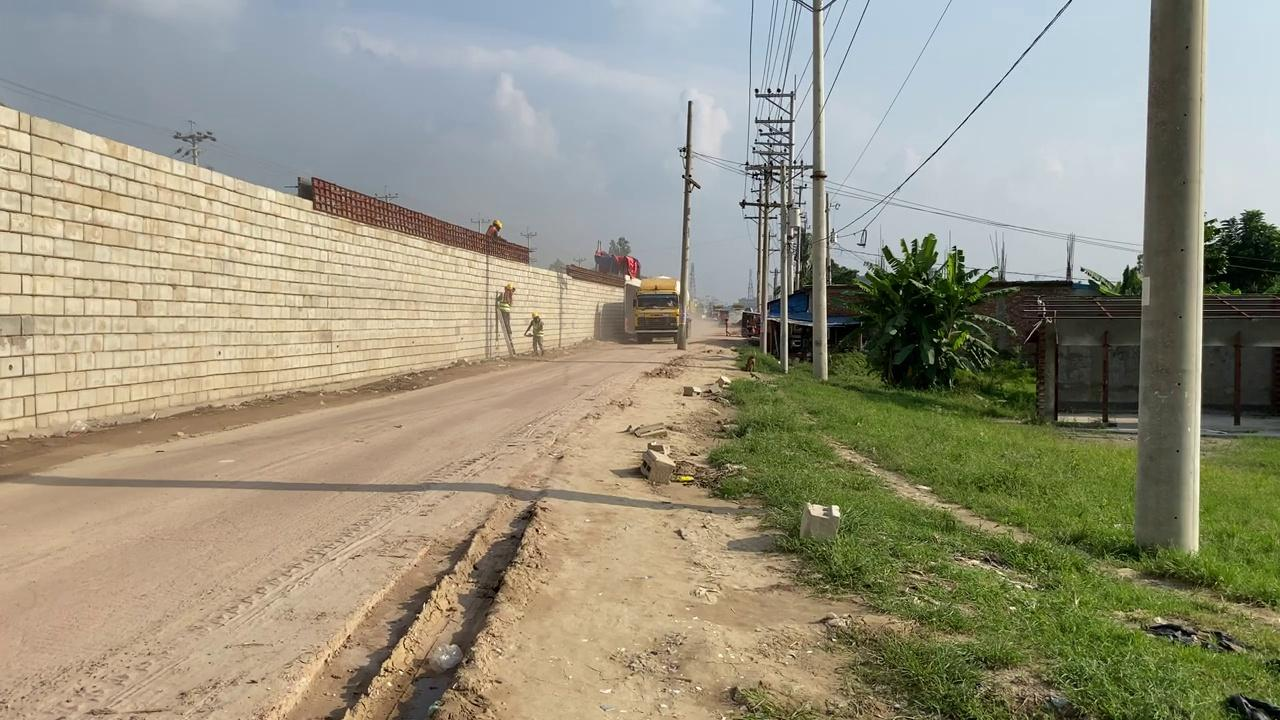Dog: (744, 355, 756, 373)
Muddy road: (1, 311, 897, 718)
Obstacle: (798, 501, 841, 543), (639, 442, 675, 484)
Pole: (1133, 0, 1206, 557), (809, 0, 829, 381), (676, 99, 693, 349)
Rickshaw: (421, 338, 906, 718)
Traffic-sign: (839, 232, 1017, 391)
Tree: (623, 275, 687, 344)
Upstairs: (0, 101, 628, 441)
